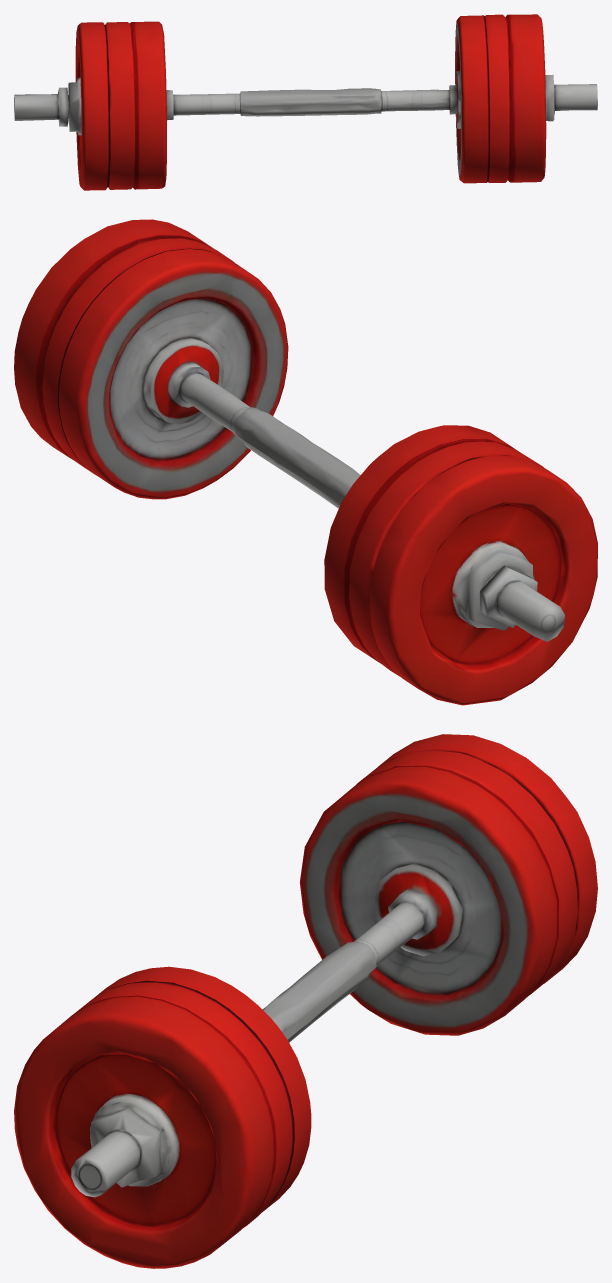
Rendered from barbell.glb.
3 renders of one model, top to bottom at view 1: azimuth 30°, elevation 25°; view 2: azimuth 150°, elevation 25°; view 3: azimuth 270°, elevation 25°, orthographic. The views are drawn at different scales.
Visible parts, largest first — view 1: tripo_node_9cbdcefe-f784-4b63-9d28-b583b9a4a856; view 2: tripo_node_9cbdcefe-f784-4b63-9d28-b583b9a4a856; view 3: tripo_node_9cbdcefe-f784-4b63-9d28-b583b9a4a856.
Boxes of the visible parts, x1,y1,x2,y2 form: tripo_node_9cbdcefe-f784-4b63-9d28-b583b9a4a856: (14,14,597,190); tripo_node_9cbdcefe-f784-4b63-9d28-b583b9a4a856: (14,219,597,705); tripo_node_9cbdcefe-f784-4b63-9d28-b583b9a4a856: (14,734,597,1268).
Bounding box in the file's own units: 0.9071 × 0.2898 × 0.6126.
Materials: 1 (1 with a texture image).
